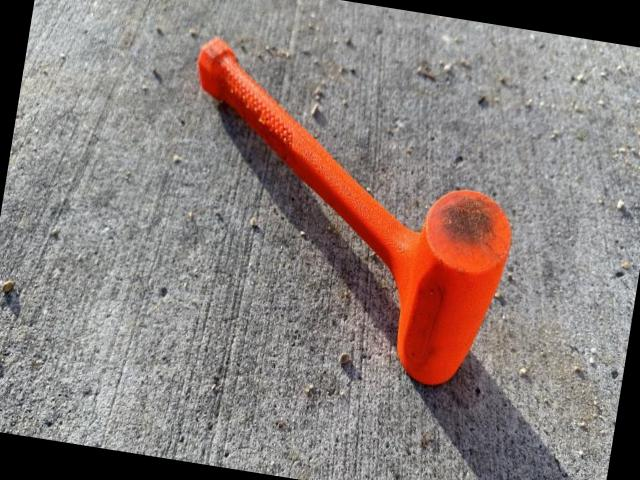hammer: (152, 36, 534, 394)
